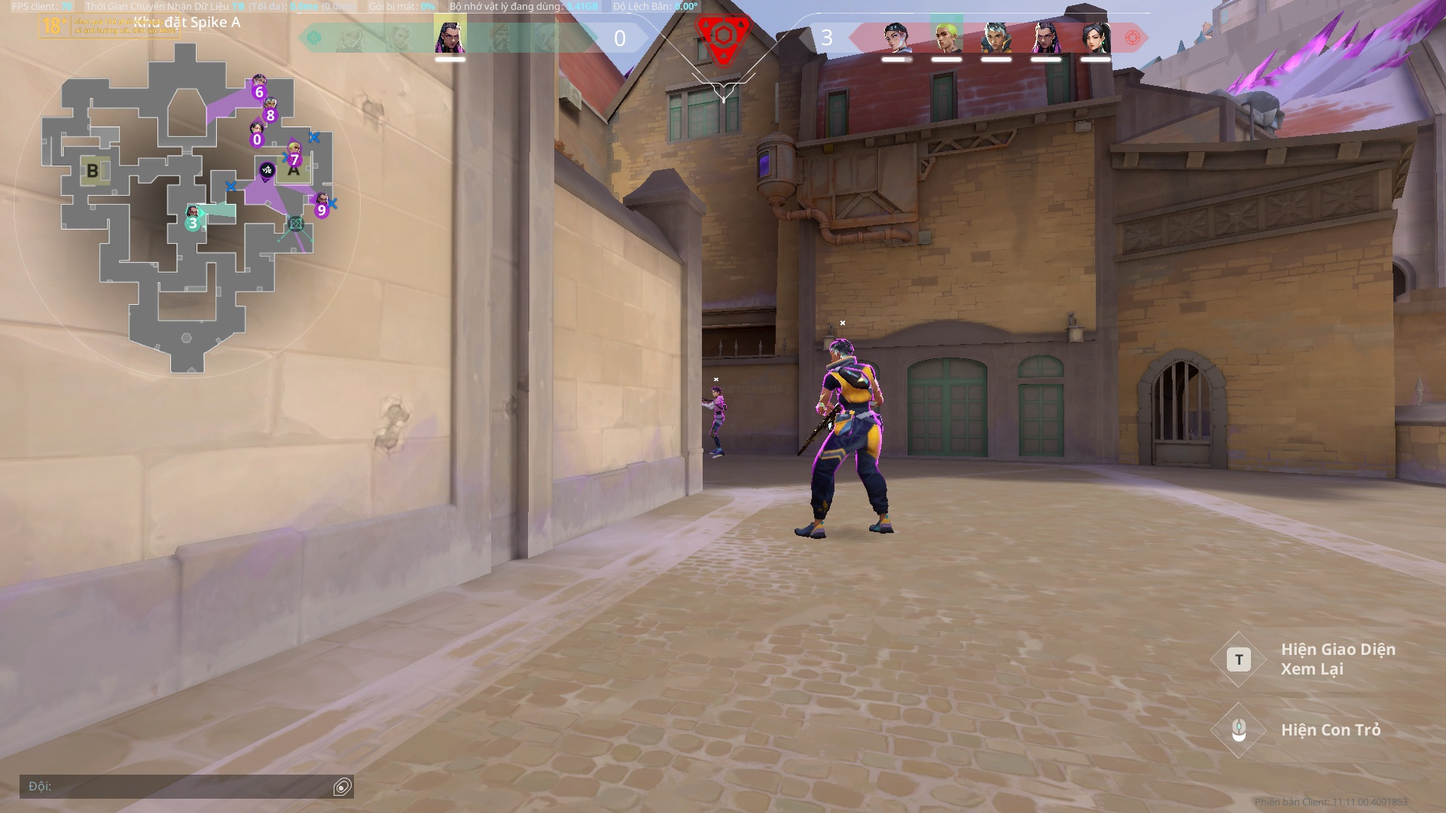body: (820, 364, 890, 415), (712, 395, 728, 414)
head: (827, 337, 859, 367), (711, 385, 725, 400)
